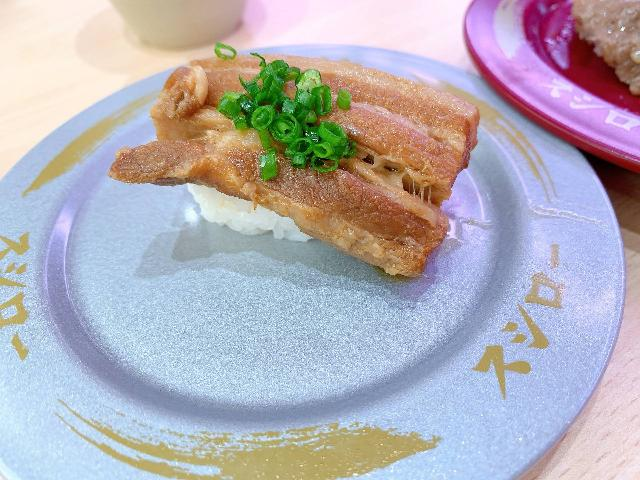janred: (440, 0, 636, 177)
janwhite: (0, 71, 617, 460)
